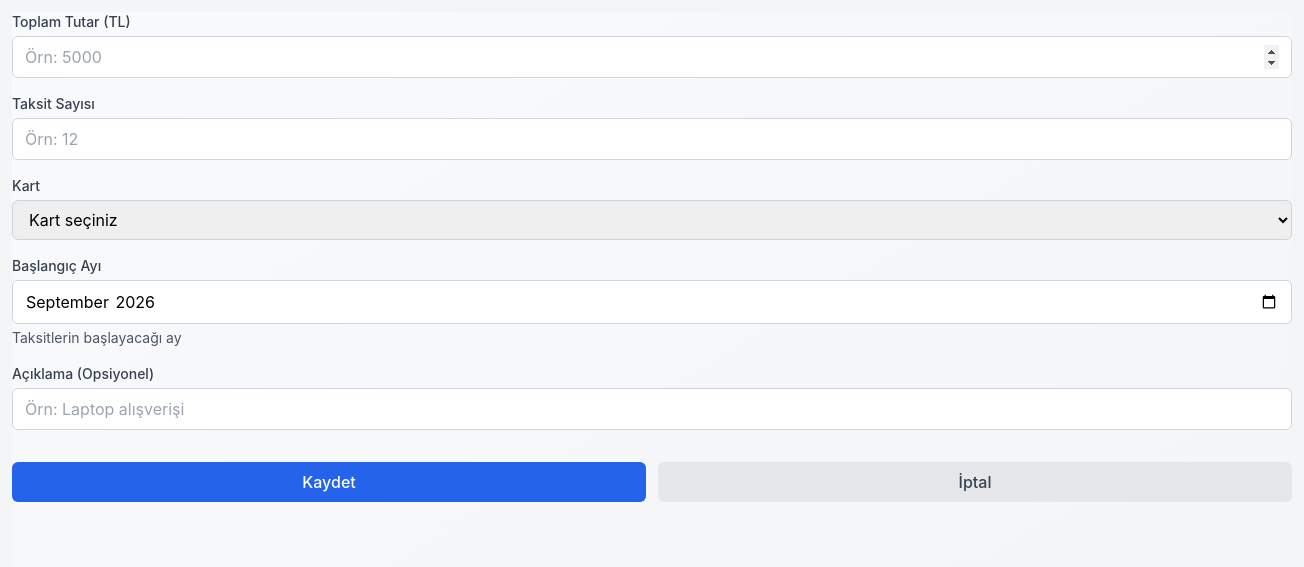
Scenario: InstallmentForm › should show error when no card is selected
Type "1000" into the number field labelled "Toplam Tutar (TL)". click: (652, 57)
box: [12,36,1292,78]
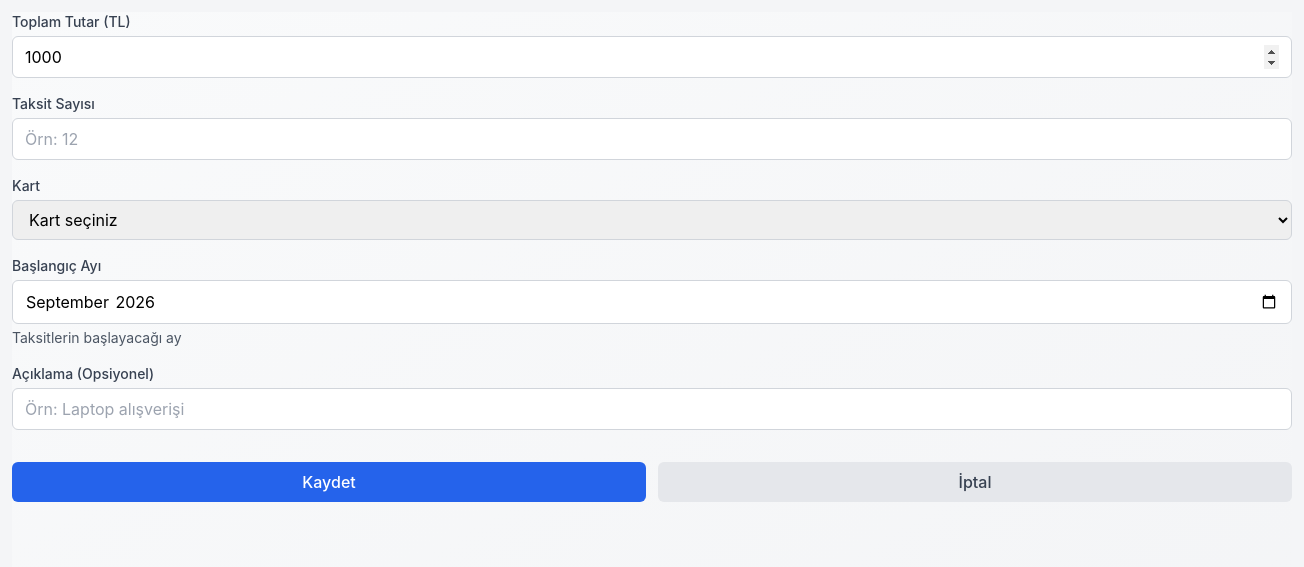
Type "12" into the number field labelled "Taksit Sayısı". click: (652, 139)
box: [12,118,1292,160]
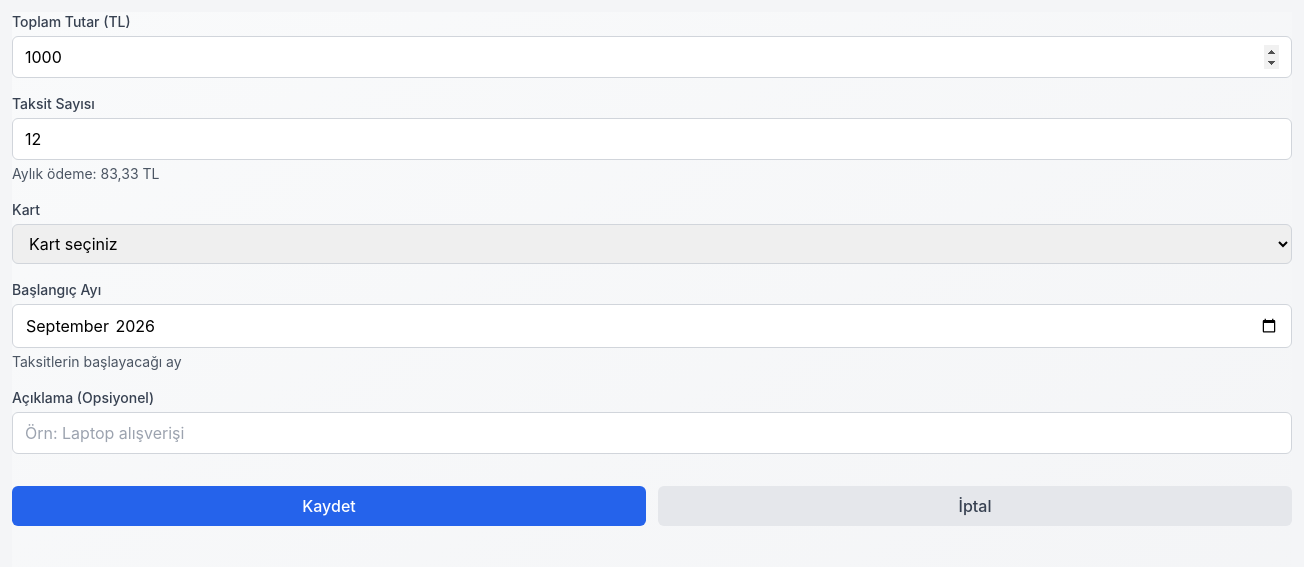
Click the button "Kaydet". click: (329, 506)
box: [12,486,646,526]
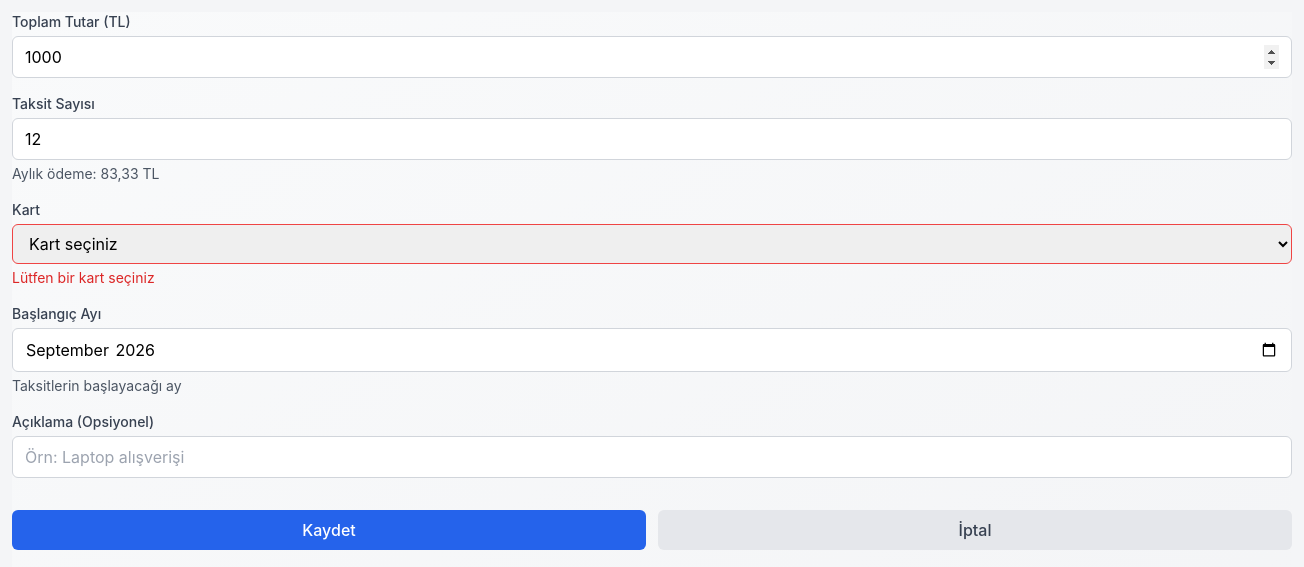
Check: the text "Lütfen bir kart seçiniz" is shown, box [12,269,155,286]
